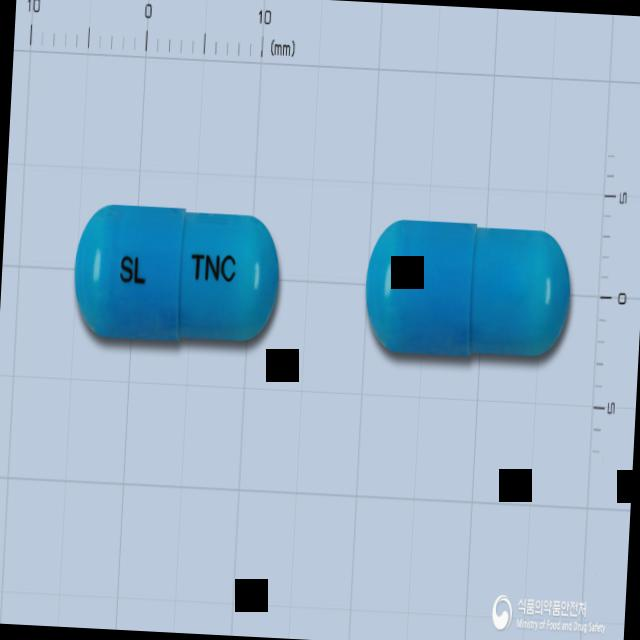Tricyline-N Cap: (72, 200, 284, 350)
